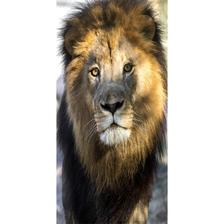Lion: (51, 0, 169, 224)
